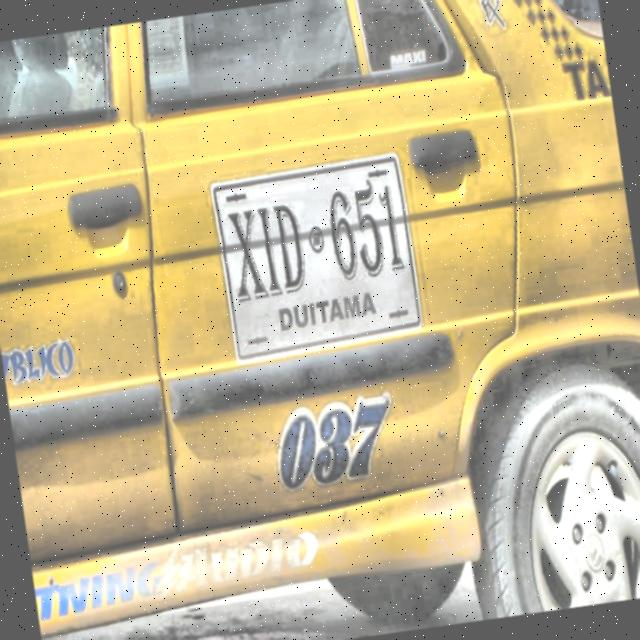plate: (213, 158, 420, 361)
